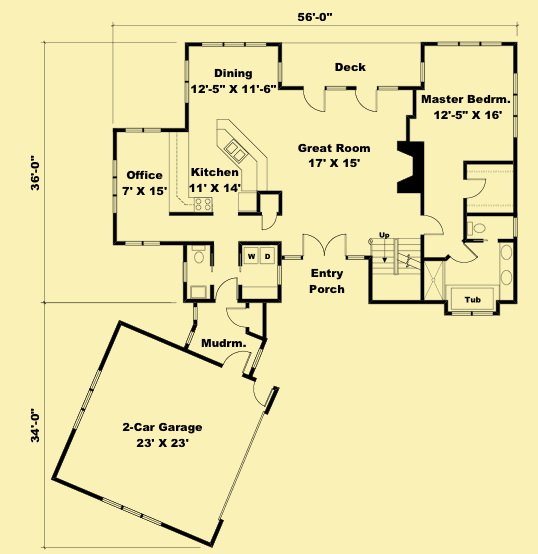door: (300, 232, 348, 263), (349, 86, 381, 114), (303, 84, 331, 114), (221, 349, 251, 376), (448, 241, 479, 266), (223, 305, 252, 331), (251, 379, 275, 410), (421, 211, 445, 237), (215, 276, 239, 301), (464, 175, 487, 200), (260, 212, 280, 233)
kitchen_bar: (214, 116, 269, 192)
large_sink: (190, 245, 209, 267), (465, 219, 489, 236)
small_sink: (498, 240, 513, 300)
stairs: (368, 230, 420, 300)
tub: (445, 285, 500, 312)
twin_sink: (223, 139, 249, 167)
window: (432, 40, 506, 48), (110, 156, 120, 215), (185, 303, 198, 345), (122, 125, 164, 136), (512, 71, 519, 136), (183, 59, 192, 106), (198, 41, 268, 47), (418, 61, 428, 88), (123, 240, 161, 247), (277, 265, 286, 291)
